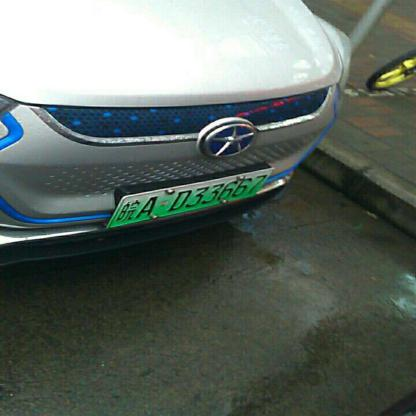lp: (108, 168, 272, 226)
